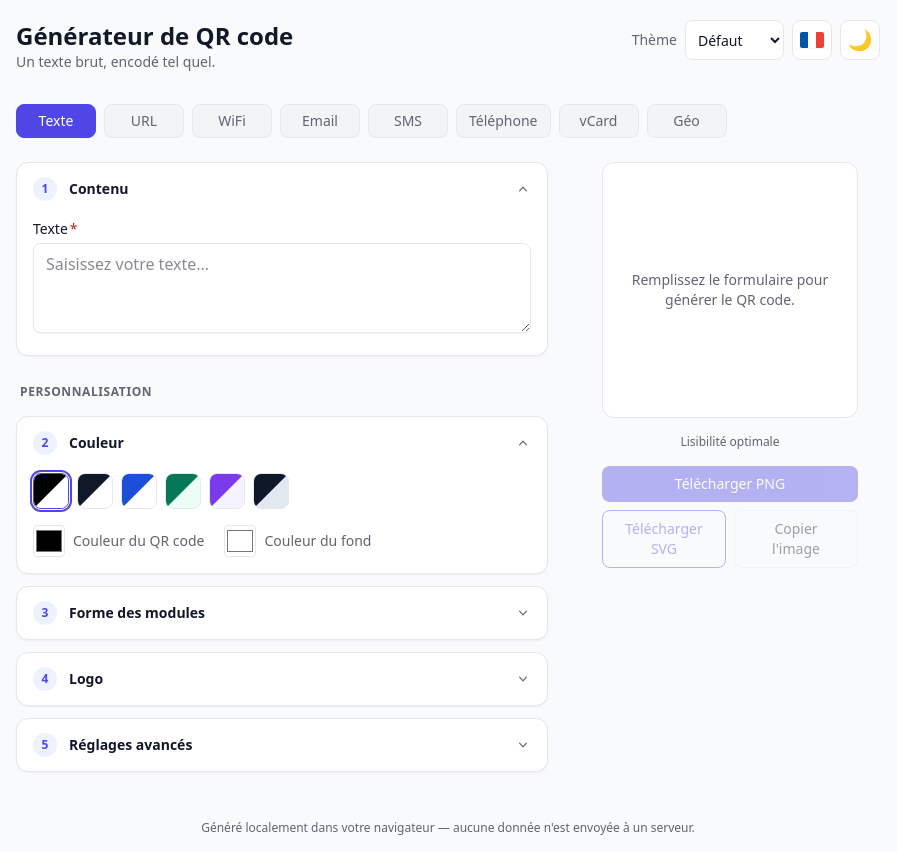
Test case: i18n - intégration dans App › bascule toute l'interface en anglais
The width and height of the screenshot is (897, 852).
Step 1. Click the button named "Passer en anglais" → (812, 40), box [792, 20, 832, 60]
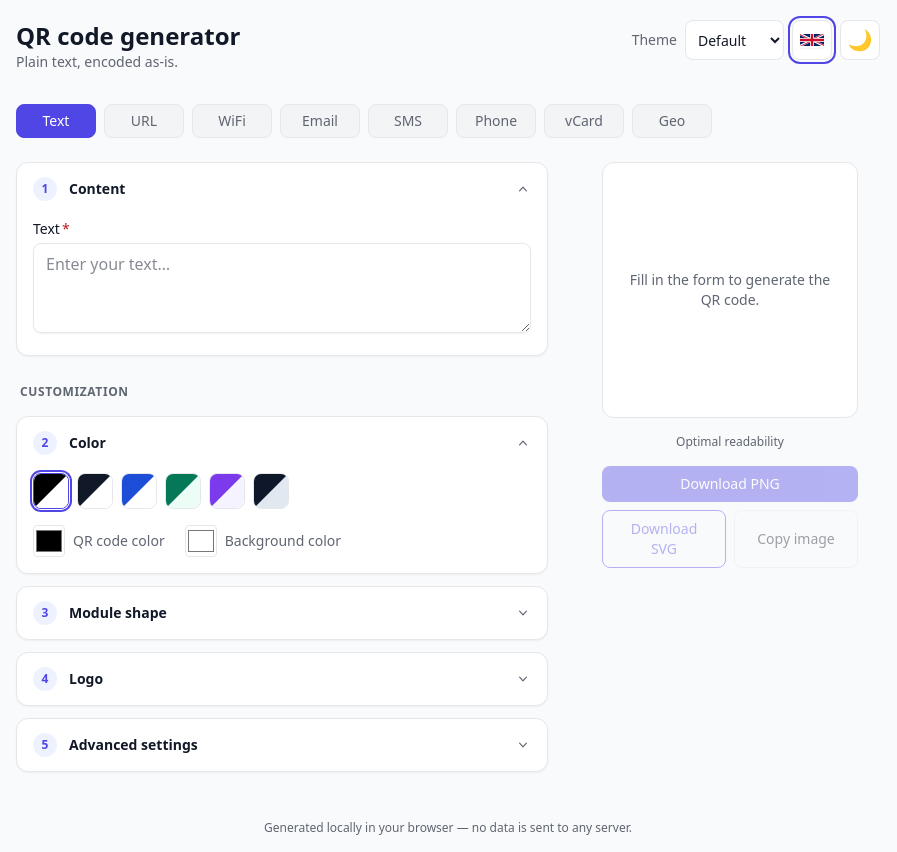
Result: the heading "QR code generator" is shown at [16, 20, 240, 52]
Result: the button "Download PNG" is shown at [602, 466, 858, 502]
Result: the text "Fill in the form to generate the QR code." is shown at [630, 270, 830, 309]
